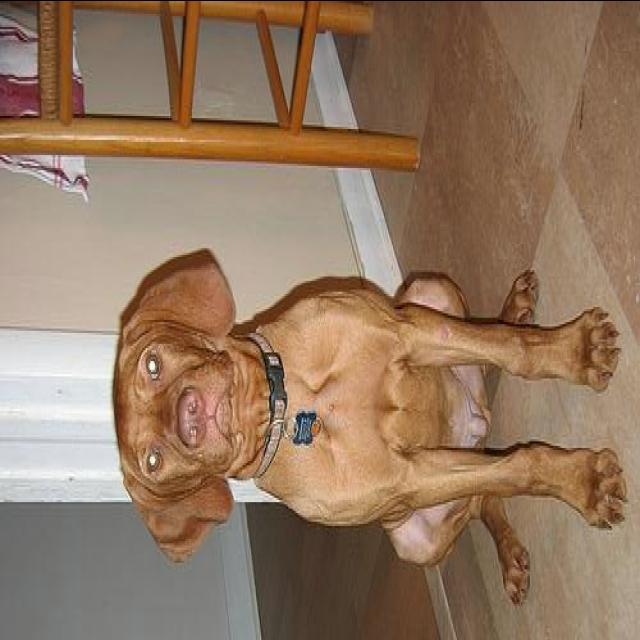vizsla: (106, 243, 627, 614)
